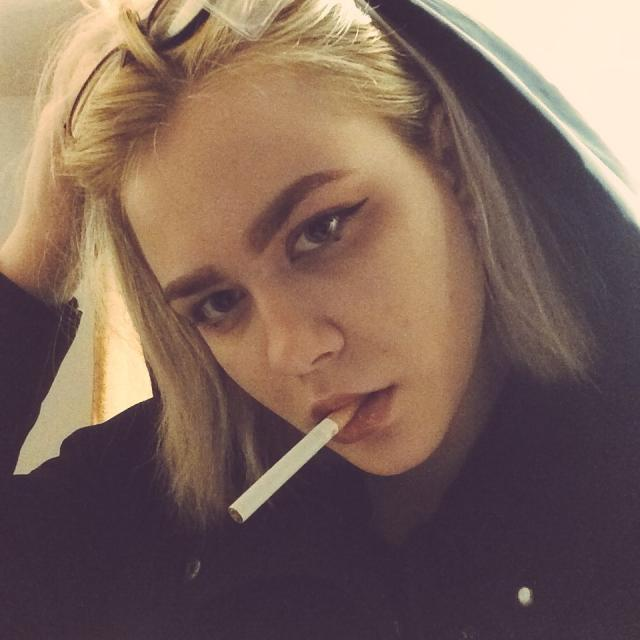cigarette: (225, 388, 371, 529)
